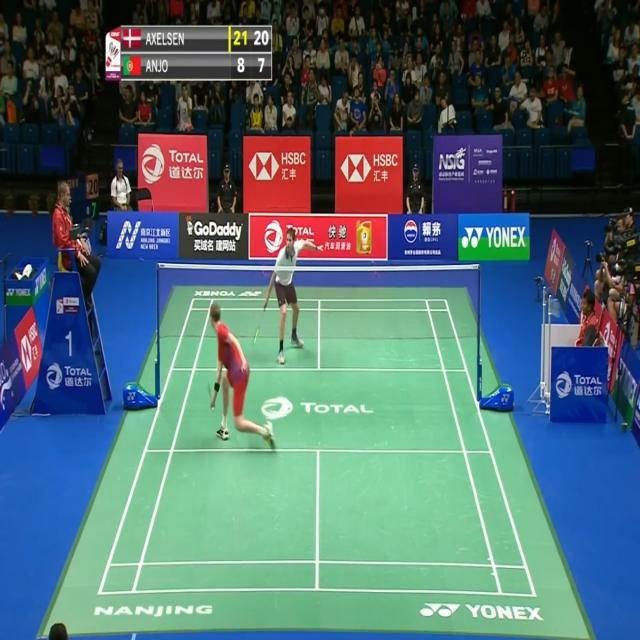Player1: (205, 303, 282, 456)
Player2: (254, 228, 328, 362)
